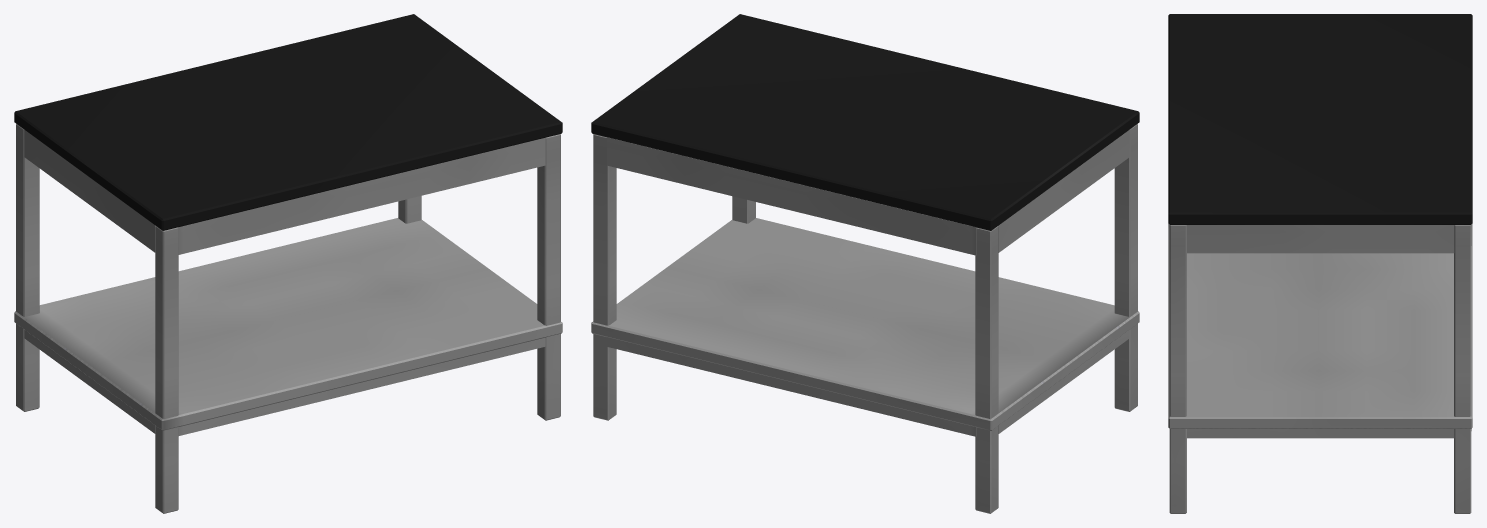
File: TV_Stand_201_1_unpacked.glb
3 renders of one model, left to right at view 1: azimuth 30°, elevation 25°; view 2: azimuth 150°, elevation 25°; view 3: azimuth 270°, elevation 25°, orthographic. The views are drawn at different scales.
Visible parts, largest first — view 1: world; view 2: world; view 3: world.
Part boxes in pixels (x1,y1,x2,y2): world: [14, 14, 562, 513]; world: [591, 14, 1139, 513]; world: [1168, 14, 1472, 513].
Bounding box in the file's own units: 1.02 × 0.7148 × 0.6528.
Materials: 1 (1 with a texture image).
